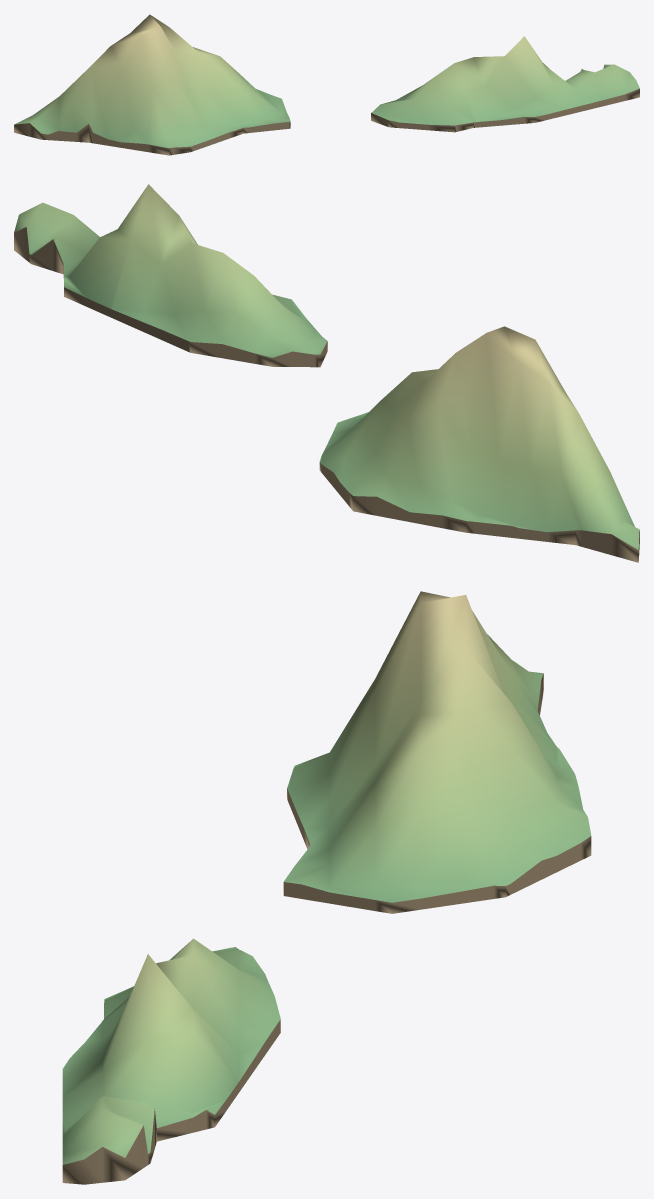
The model's file is WSM.glb.
The picture shows the model from 3 angles, top to bottom: view 1: azimuth 30°, elevation 25°; view 2: azimuth 150°, elevation 25°; view 3: azimuth 270°, elevation 25°; orthographic projection. The views are drawn at different scales.
Visible parts, largest first — view 1: WSM; view 2: WSM; view 3: WSM.
Part boxes in pixels (box(x1,y1,x2,y2)): WSM: box(14, 14, 639, 155); WSM: box(14, 184, 639, 562); WSM: box(62, 591, 591, 1184).
Bounding box in the file's own units: 1.72 × 0.338 × 0.7778.
